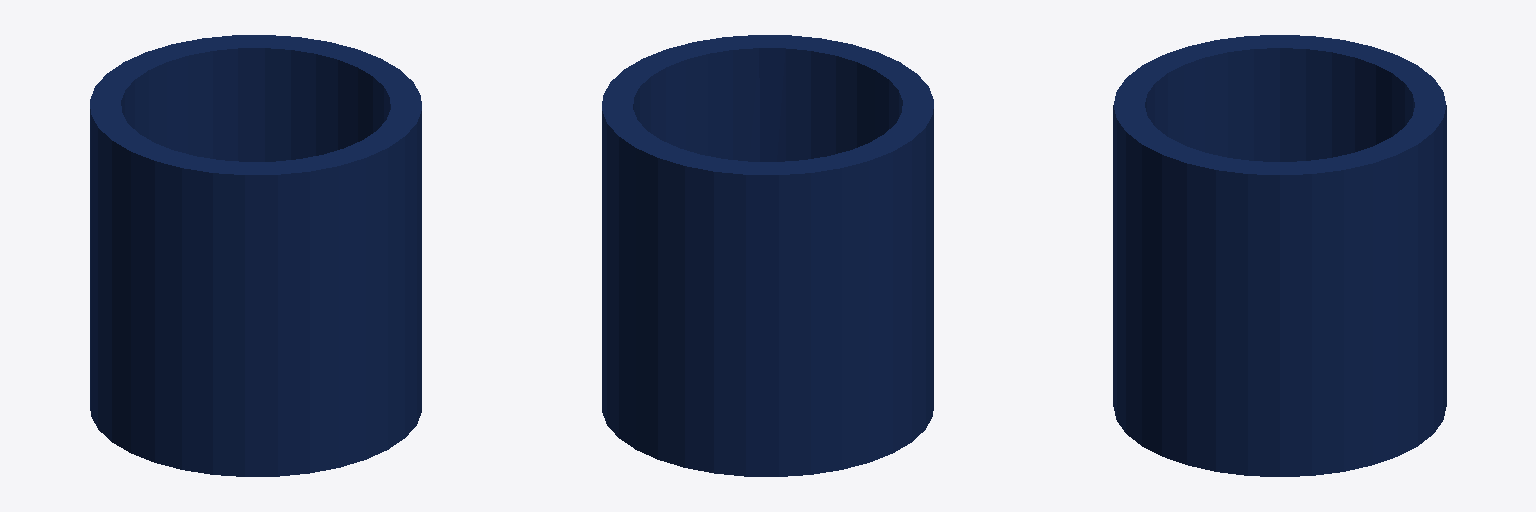
The model's file is Pipe.obj.
3 views of the same model, side by side, from view 1: azimuth 30°, elevation 25°; view 2: azimuth 150°, elevation 25°; view 3: azimuth 270°, elevation 25° (orthographic).
Parts seen in each view (by area): view 1: Cylinder_Cylinder.001; view 2: Cylinder_Cylinder.001; view 3: Cylinder_Cylinder.001.
Boxes of the visible parts, x1=… form: Cylinder_Cylinder.001: x1=90, y1=35, x2=421, y2=476; Cylinder_Cylinder.001: x1=602, y1=35, x2=933, y2=476; Cylinder_Cylinder.001: x1=1113, y1=35, x2=1446, y2=476.
Bounding box in the file's own units: 3.83 × 3.83 × 3.83.